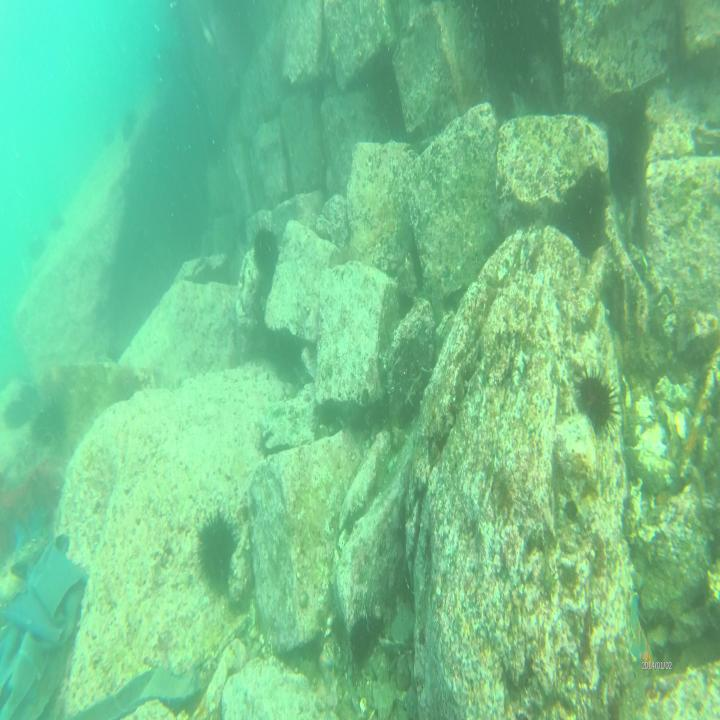echinus: (569, 360, 620, 440), (194, 511, 241, 590), (343, 598, 378, 668), (247, 222, 281, 278)
starfish: (624, 588, 656, 676)
